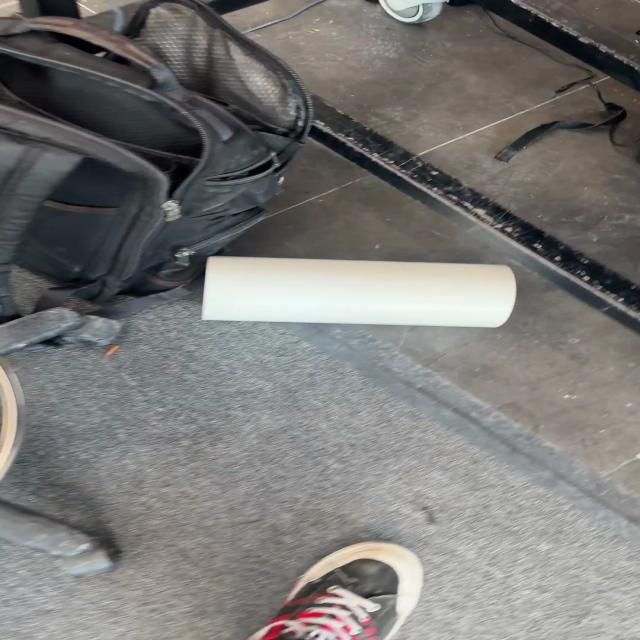Coral: (199, 254, 517, 329)
